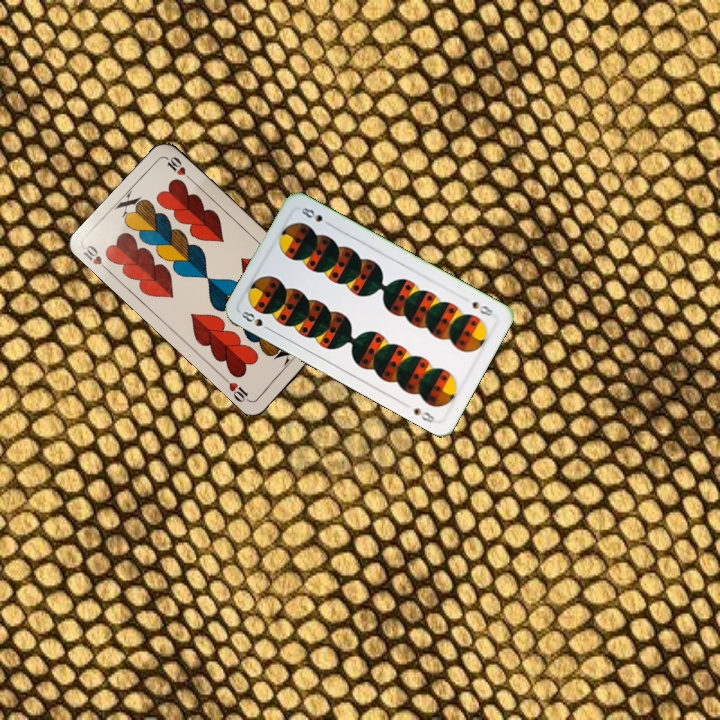H10: (79, 241, 113, 276)
S8: (237, 307, 275, 334), (468, 297, 499, 319)
